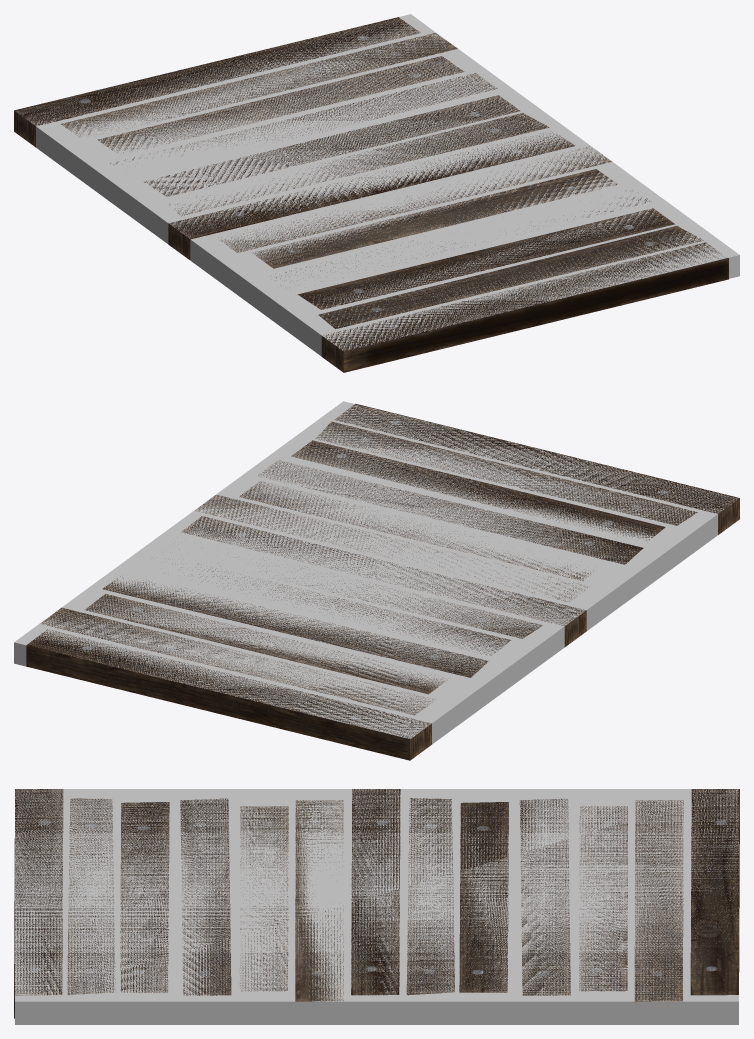
Rendered from SM_WoodenFloor.fbx.
3 views of the same model, one above another, from view 1: azimuth 30°, elevation 25°; view 2: azimuth 150°, elevation 25°; view 3: azimuth 270°, elevation 25° (orthographic). The views are drawn at different scales.
Parts seen in each view (by area): view 1: SM_WoodenFloor_ConvexHulls, SM_WoodenFloor; view 2: SM_WoodenFloor_ConvexHulls, SM_WoodenFloor; view 3: SM_WoodenFloor_ConvexHulls, SM_WoodenFloor.
Part boxes in pixels (bbox=[...]): SM_WoodenFloor_ConvexHulls: bbox=[22, 14, 739, 356]; SM_WoodenFloor: bbox=[14, 17, 728, 372]; SM_WoodenFloor_ConvexHulls: bbox=[14, 401, 738, 744]; SM_WoodenFloor: bbox=[26, 403, 739, 760]; SM_WoodenFloor_ConvexHulls: bbox=[15, 789, 738, 1024]; SM_WoodenFloor: bbox=[14, 789, 739, 1018].
Size of the model in its own units: 144 by 208 by 7.36.
2 materials, 1 textured.
